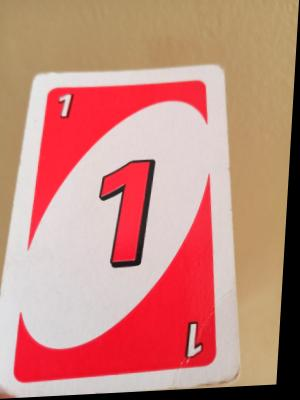num_1: (180, 314, 217, 369), (48, 89, 89, 129)
red: (0, 65, 247, 393)
